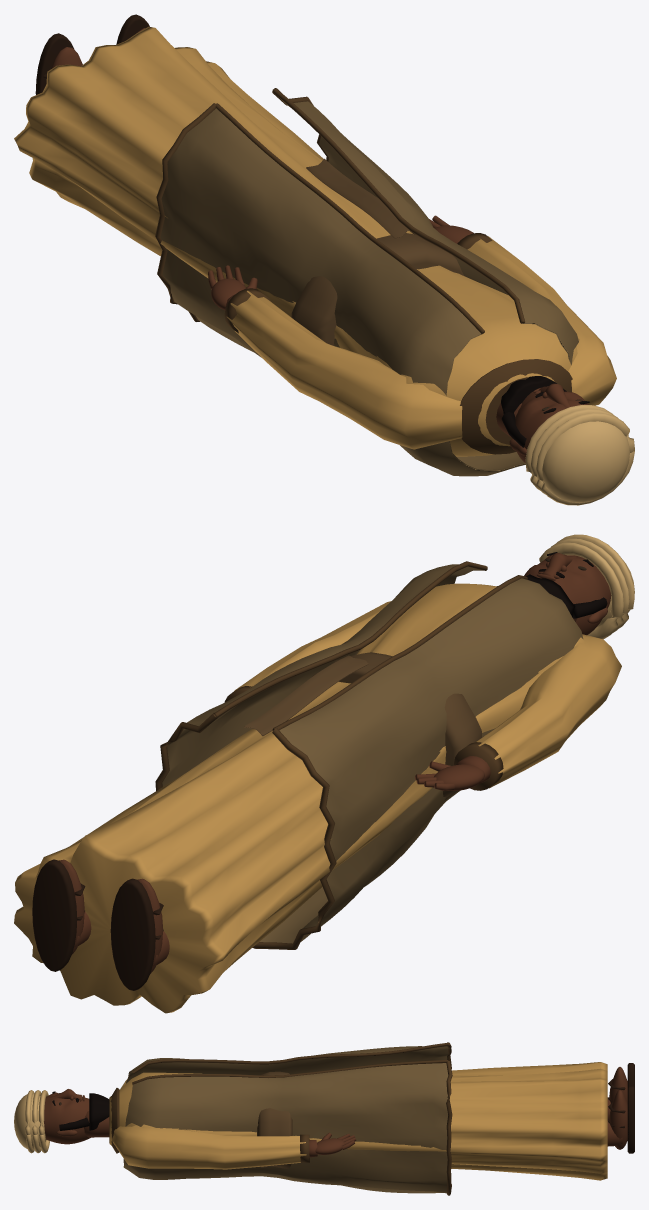
The model's file is SM_V3_Pilgrim_Man_A_Ochre.obj.
3 views of the same model, one above another, from view 1: azimuth 30°, elevation 25°; view 2: azimuth 150°, elevation 25°; view 3: azimuth 270°, elevation 25° (orthographic). The views are drawn at different scales.
Parts seen in each view (by area): view 1: Mantle, Tunic, SleeveR, TurbanCrown, SleeveL, Collar, Sash, SashTail, MantleEdge-1, MantleEdge1, TurbanBand2, Head (+5 smaller); view 2: Tunic, Mantle, SleeveR, SandalSoleR, SandalSoleL, MantleHem, SashTail, Sash, Head, MantleEdge-1, TurbanBand0, SleeveL (+5 smaller); view 3: Mantle, Tunic, SleeveL, Head, MantleEdge1, Sash, MantleEdge-1, TurbanCrown, FootL, MantleHem, Beard, SandalSoleL (+9 smaller).
Boxes of the visible parts, left/top/right/bottom form: Mantle: left=160, top=97, right=578, bottom=476; Tunic: left=14, top=26, right=579, bottom=456; SleeveR: left=226, top=290, right=462, bottom=449; TurbanCrown: left=542, top=421, right=629, bottom=503; SleeveL: left=467, top=236, right=616, bottom=405; Collar: left=460, top=359, right=572, bottom=454; Sash: left=291, top=233, right=463, bottom=345; SashTail: left=306, top=158, right=409, bottom=238; MantleEdge-1: left=272, top=88, right=524, bottom=323; MantleEdge1: left=215, top=103, right=484, bottom=334; TurbanBand2: left=536, top=412, right=634, bottom=505; Head: left=515, top=391, right=588, bottom=462; Tunic: left=14, top=583, right=585, bottom=1013; Mantle: left=162, top=564, right=583, bottom=943; SleeveR: left=476, top=634, right=621, bottom=788; SandalSoleR: left=110, top=878, right=155, bottom=990; SandalSoleL: left=32, top=859, right=77, bottom=971; MantleHem: left=155, top=713, right=336, bottom=949; SashTail: left=244, top=655, right=368, bottom=736; Sash: left=312, top=652, right=481, bottom=797; Head: left=524, top=554, right=611, bottom=635; MantleEdge-1: left=214, top=561, right=487, bottom=716; TurbanBand0: left=539, top=542, right=623, bottom=639; SleeveL: left=234, top=601, right=390, bottom=691; Mantle: left=123, top=1046, right=448, bottom=1193; Tunic: left=109, top=1062, right=607, bottom=1180; SleeveL: left=112, top=1125, right=306, bottom=1169; Head: left=44, top=1092, right=90, bottom=1144; MantleEdge1: left=132, top=1042, right=448, bottom=1073; Sash: left=257, top=1071, right=292, bottom=1169; MantleEdge-1: left=132, top=1060, right=448, bottom=1084; TurbanCrown: left=14, top=1093, right=46, bottom=1149; FootL: left=609, top=1090, right=627, bottom=1149; MantleHem: left=446, top=1042, right=452, bottom=1195; Beard: left=89, top=1093, right=109, bottom=1130; SandalSoleL: left=627, top=1086, right=634, bottom=1153.
Size of the model in its own units: 57.14 by 43.78 by 181.
